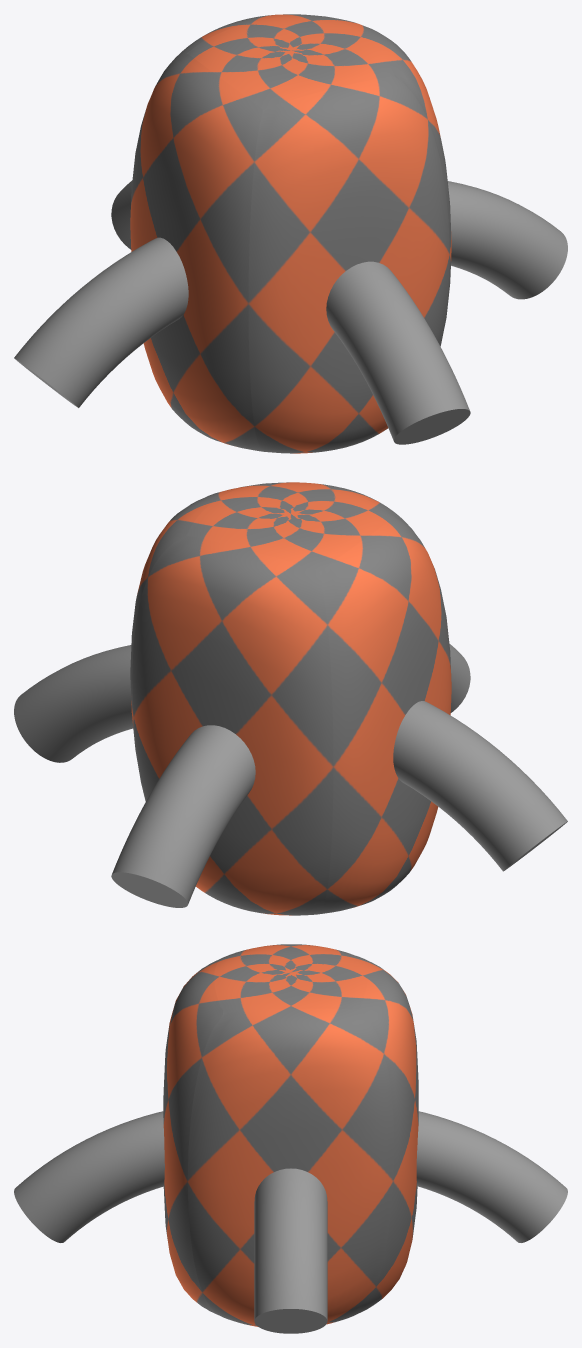
File: Body(Oblong)+Colour(More_Orange)+Pattern(Diamond)+Arm_Angle(Bent_Down).fbx
3 renders of one model, top to bottom at view 1: azimuth 30°, elevation 25°; view 2: azimuth 150°, elevation 25°; view 3: azimuth 270°, elevation 25°, orthographic. The views are drawn at different scales.
Visible parts, largest first — view 1: Body(Oblong)+Colour(More_Orange)+Pattern(Diamond)+Arm_Angle( (×5); view 2: Body(Oblong)+Colour(More_Orange)+Pattern(Diamond)+Arm_Angle( (×5); view 3: Body(Oblong)+Colour(More_Orange)+Pattern(Diamond)+Arm_Angle( (×4).
Boxes of the visible parts, bbox=[...] form: Body(Oblong)+Colour(More_Orange)+Pattern(Diamond)+Arm_Angle( (×5): bbox=[14, 14, 567, 453]; Body(Oblong)+Colour(More_Orange)+Pattern(Diamond)+Arm_Angle( (×5): bbox=[14, 482, 567, 915]; Body(Oblong)+Colour(More_Orange)+Pattern(Diamond)+Arm_Angle( (×4): bbox=[14, 944, 567, 1333].
Bounding box in the file's own units: 60.67 × 40 × 60.67.
Materials: 2 (1 with a texture image).
